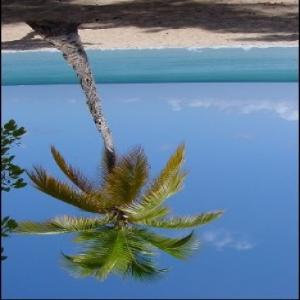palm tree: (6, 140, 224, 281)
